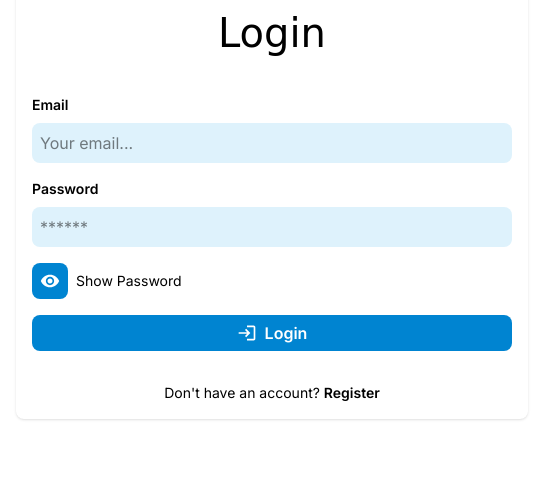
Test: Login page › shows an error message when user leaves the Password field empty
Type "test@example.com" into the field labelled "Email". click: (272, 143)
box: [32,123,512,163]
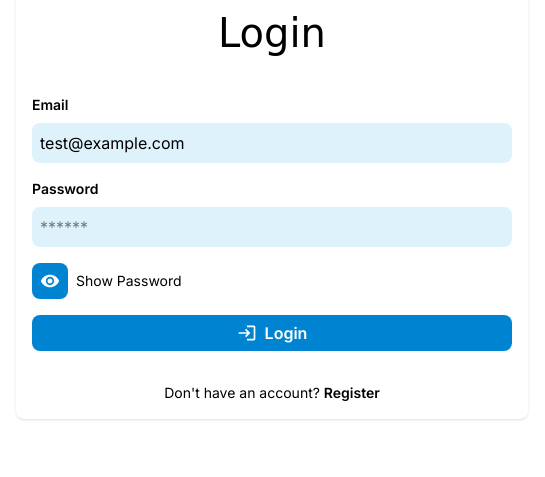
Click the button with test id "login-button". click: (272, 333)
box: [32,315,512,351]
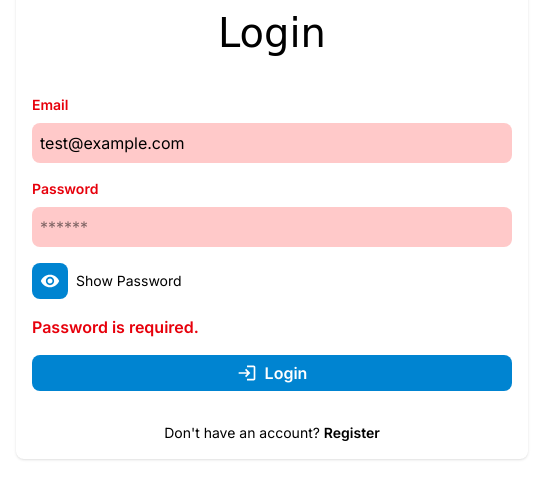
Check: the text "Password is required." is shown, box [32,317,199,337]
